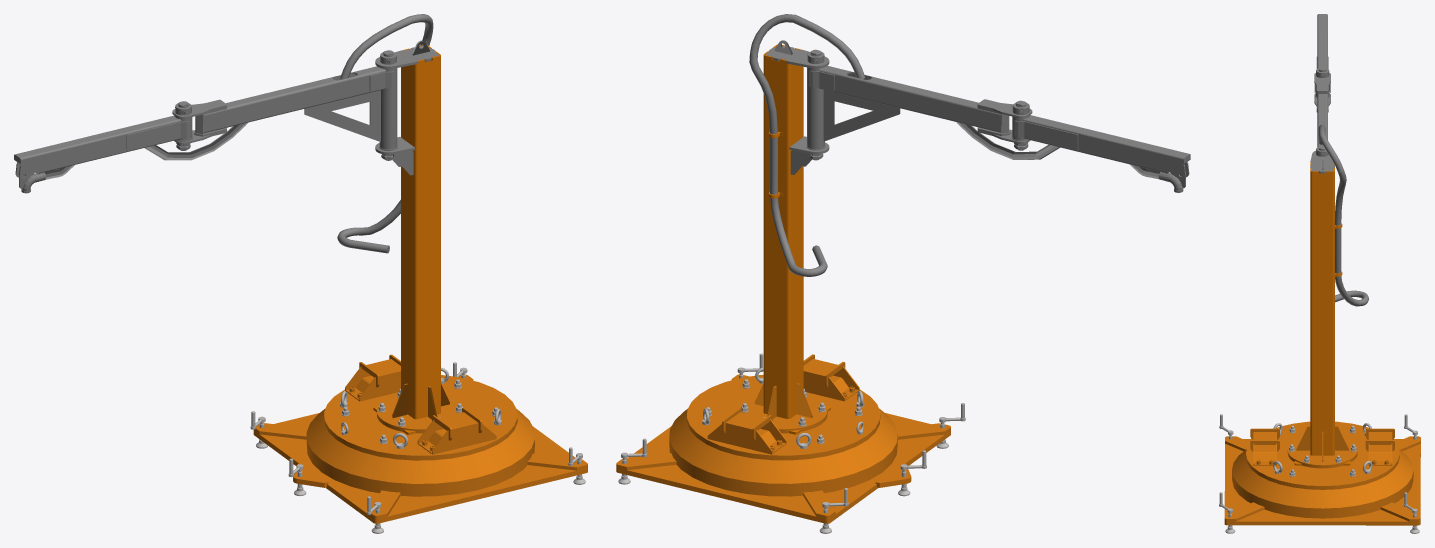
The model's file is aardwolf_all_part_Mobile Articulated Jib Crane-Two Arm@p1_-87_0_0@p2_2612_0_2405_X.fbx.
The picture shows the model from 3 angles, left to right: view 1: azimuth 30°, elevation 25°; view 2: azimuth 150°, elevation 25°; view 3: azimuth 270°, elevation 25°; orthographic projection. The views are drawn at different scales.
Parts seen in each view (by area): view 1: aardwolf_all_part_obj370, aardwolf_all_part_obj369, Object110; view 2: aardwolf_all_part_obj370, aardwolf_all_part_obj369, Object110; view 3: aardwolf_all_part_obj370, aardwolf_all_part_obj369, Object110.
Part boxes in pixels (x1,y1,x2,y2): aardwolf_all_part_obj370: [250, 354, 587, 533]; aardwolf_all_part_obj369: [14, 40, 440, 419]; Object110: [337, 14, 433, 253]; aardwolf_all_part_obj370: [616, 353, 965, 533]; aardwolf_all_part_obj369: [763, 40, 1190, 418]; Object110: [749, 14, 865, 276]; aardwolf_all_part_obj370: [1219, 414, 1420, 533]; aardwolf_all_part_obj369: [1310, 14, 1334, 455]; Object110: [1318, 124, 1368, 306].
Bounding box in the file's own units: 3345 × 2825 × 1443.
